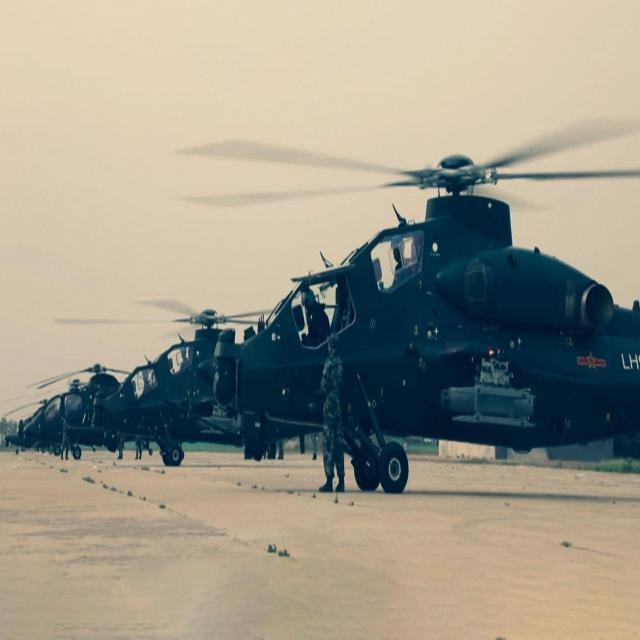MIL_HELO: (196, 104, 640, 516), (74, 274, 279, 484), (14, 351, 139, 475)
